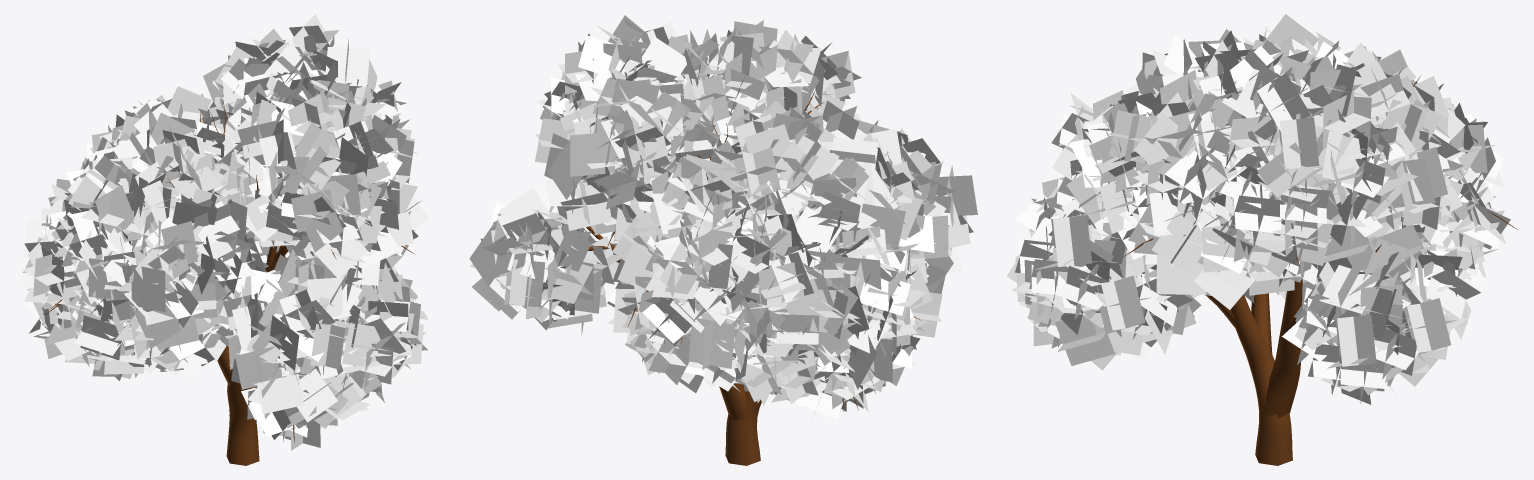
Rendered from fluffytree.glb.
The picture shows the model from 3 angles, left to right: view 1: azimuth 30°, elevation 25°; view 2: azimuth 150°, elevation 25°; view 3: azimuth 270°, elevation 25°; orthographic projection. The views are drawn at different scales.
Visible parts, largest first — view 1: NOVA_COPA (×3), TRUNCO; view 2: NOVA_COPA (×3), TRUNCO; view 3: NOVA_COPA (×4), TRUNCO.
Part boxes in pixels (box(x1,y1,x2,y2)): NOVA_COPA (×3): box(19, 14, 428, 450); TRUNCO: box(45, 100, 415, 465); NOVA_COPA (×3): box(469, 15, 977, 419); TRUNCO: box(586, 89, 920, 465); NOVA_COPA (×4): box(1007, 14, 1510, 404); TRUNCO: box(1122, 75, 1517, 465).
Size of the model in its own units: 6.32 by 6.07 by 6.27.
